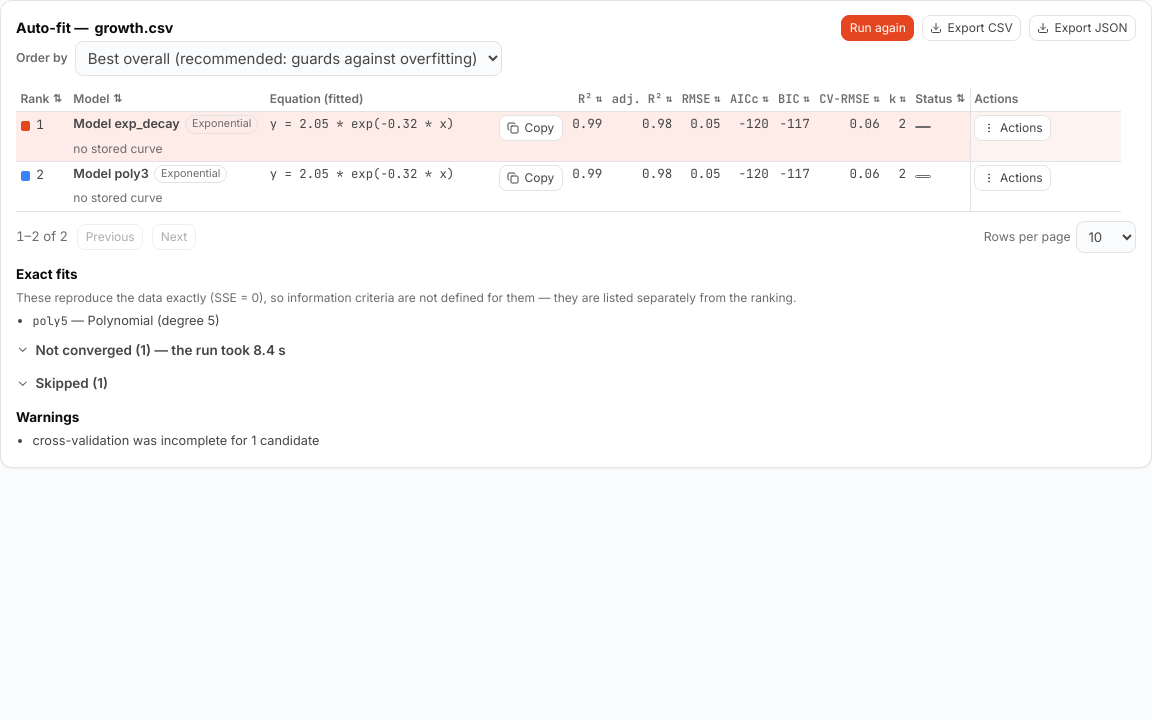
Test: AutofitPanel — results › collapses Not converged and Skipped with their counts; expanding shows model and reason
The width and height of the screenshot is (1152, 720).
Click the heading "Not converged (1) — the run took 8.4 s" at (151, 350), box [16,342,286,358]
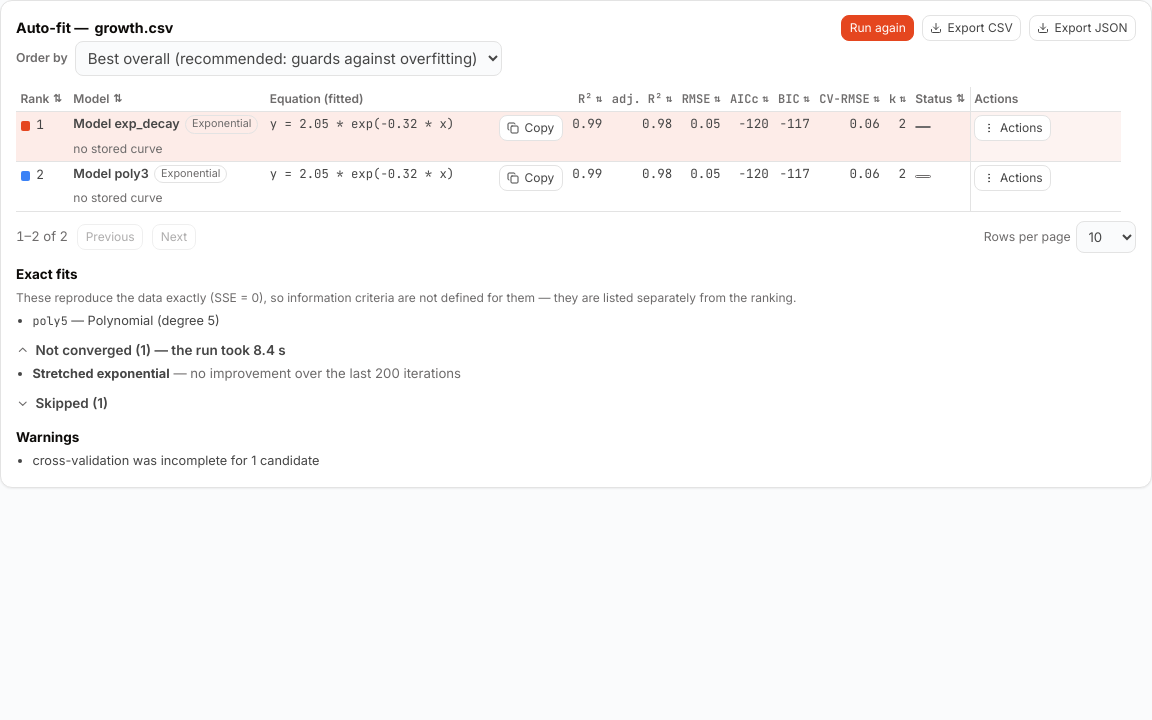
Result: the text "Stretched exponential" is shown at [32,366,170,381]
Result: the text "— no improvement over the last 200 iterations" is shown at [170,365,461,381]
Click the heading "Skipped (1)" at (62, 403), box [16,395,108,411]
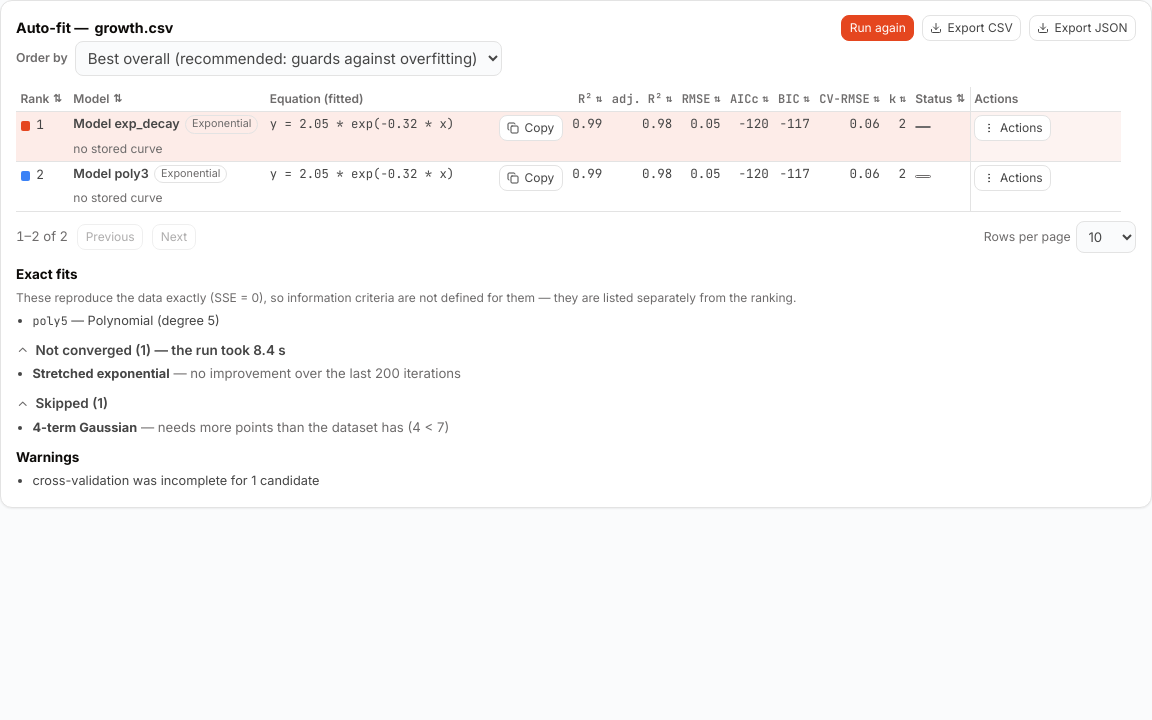
Result: the text "4-term Gaussian" is shown at [32,420,137,435]
Result: the text "— needs more points than the dataset has (4 < 7)" is shown at [137,419,449,435]
